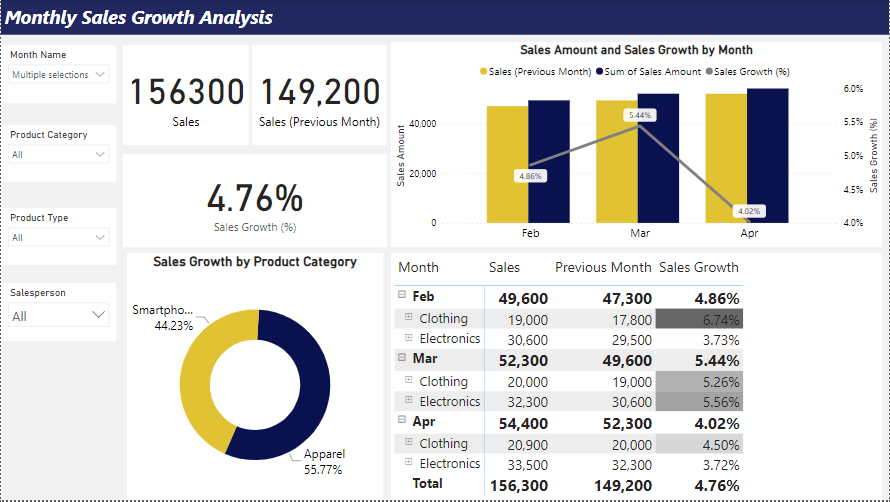

The page's visual inventory and layout, read from the dashboard file:
{"tool":"powerbi","page":{"name":"Page 1","canvas":[1280,720],"ordinal":0},"visuals":[{"type":"textbox","box":[0,0,1280,50.3],"z":0},{"type":"slicer","fields":{"Values":["Date.Month Name"]},"box":[0,64.9,166.2,79.7],"z":1000},{"type":"slicer","fields":{"Values":["Data.Product Category"]},"box":[0,156.8,166.2,78.4],"z":2000},{"type":"slicer","fields":{"Values":["Data.Product Type"]},"box":[0,248.6,166.2,75.7],"z":3000},{"type":"card","fields":{"Values":["Data.Sales"]},"box":[176.2,65.1,181,120.6],"z":4000},{"type":"card","fields":{"Values":["Data.Sales (Previous Month)"]},"box":[361.9,65.1,193.7,120.6],"z":5000},{"type":"card","fields":{"Values":["Data.Sales Growth (%)"]},"box":[176.2,195.2,379.4,128.6],"z":6000},{"type":"lineClusteredColumnComboChart","title":"Sales Amount and Sales Growth by Month ","fields":{"Category":["Date.Month Name Short"],"Y":["Data.Sales (Previous Month)","Sum(Data.Sales Amount)"],"Y2":["Data.Sales Growth (%)"]},"box":[561.9,65.1,706.3,260.3],"z":7000},{"type":"donutChart","title":"Sales Growth by Product Category","fields":{"Category":["Data.Product Type"],"Y":["Data.Sales Growth (%)"]},"box":[181.1,341.9,368.9,368.9],"z":7001},{"type":"pivotTable","title":"Sales Amount and Sales Growth by Month ","fields":{"Rows":["Date.Month Name Short","Data.Product Category","Data.Salesperson"],"Values":["Sum(Data.Sales Amount)","Data.Sales (Previous Month)","Data.Sales Growth (%)"]},"box":[561.9,341.3,706.3,368.3],"z":7002},{"type":"slicer","fields":{"Values":["Data.Salesperson"]},"box":[0,341,165.6,75.4],"z":7003}]}

Visuals, with their boxes in screenshot pixels (x1, y1, x2, y2), scaled from the page's 1280x720 canvas onto the 890x502 screenshot:
textbox: region(0, 0, 889, 35)
slicer - Date.Month Name: region(0, 45, 116, 101)
slicer - Data.Product Category: region(0, 109, 116, 164)
slicer - Data.Product Type: region(0, 173, 116, 226)
card - Data.Sales: region(123, 45, 248, 129)
card - Data.Sales (Previous Month): region(252, 45, 386, 129)
card - Data.Sales Growth (%): region(123, 136, 386, 226)
"Sales Amount and Sales Growth by Month " lineClusteredColumnComboChart: region(391, 45, 882, 227)
"Sales Growth by Product Category" donutChart: region(126, 238, 382, 496)
"Sales Amount and Sales Growth by Month " pivotTable: region(391, 238, 882, 495)
slicer - Data.Salesperson: region(0, 238, 115, 290)
